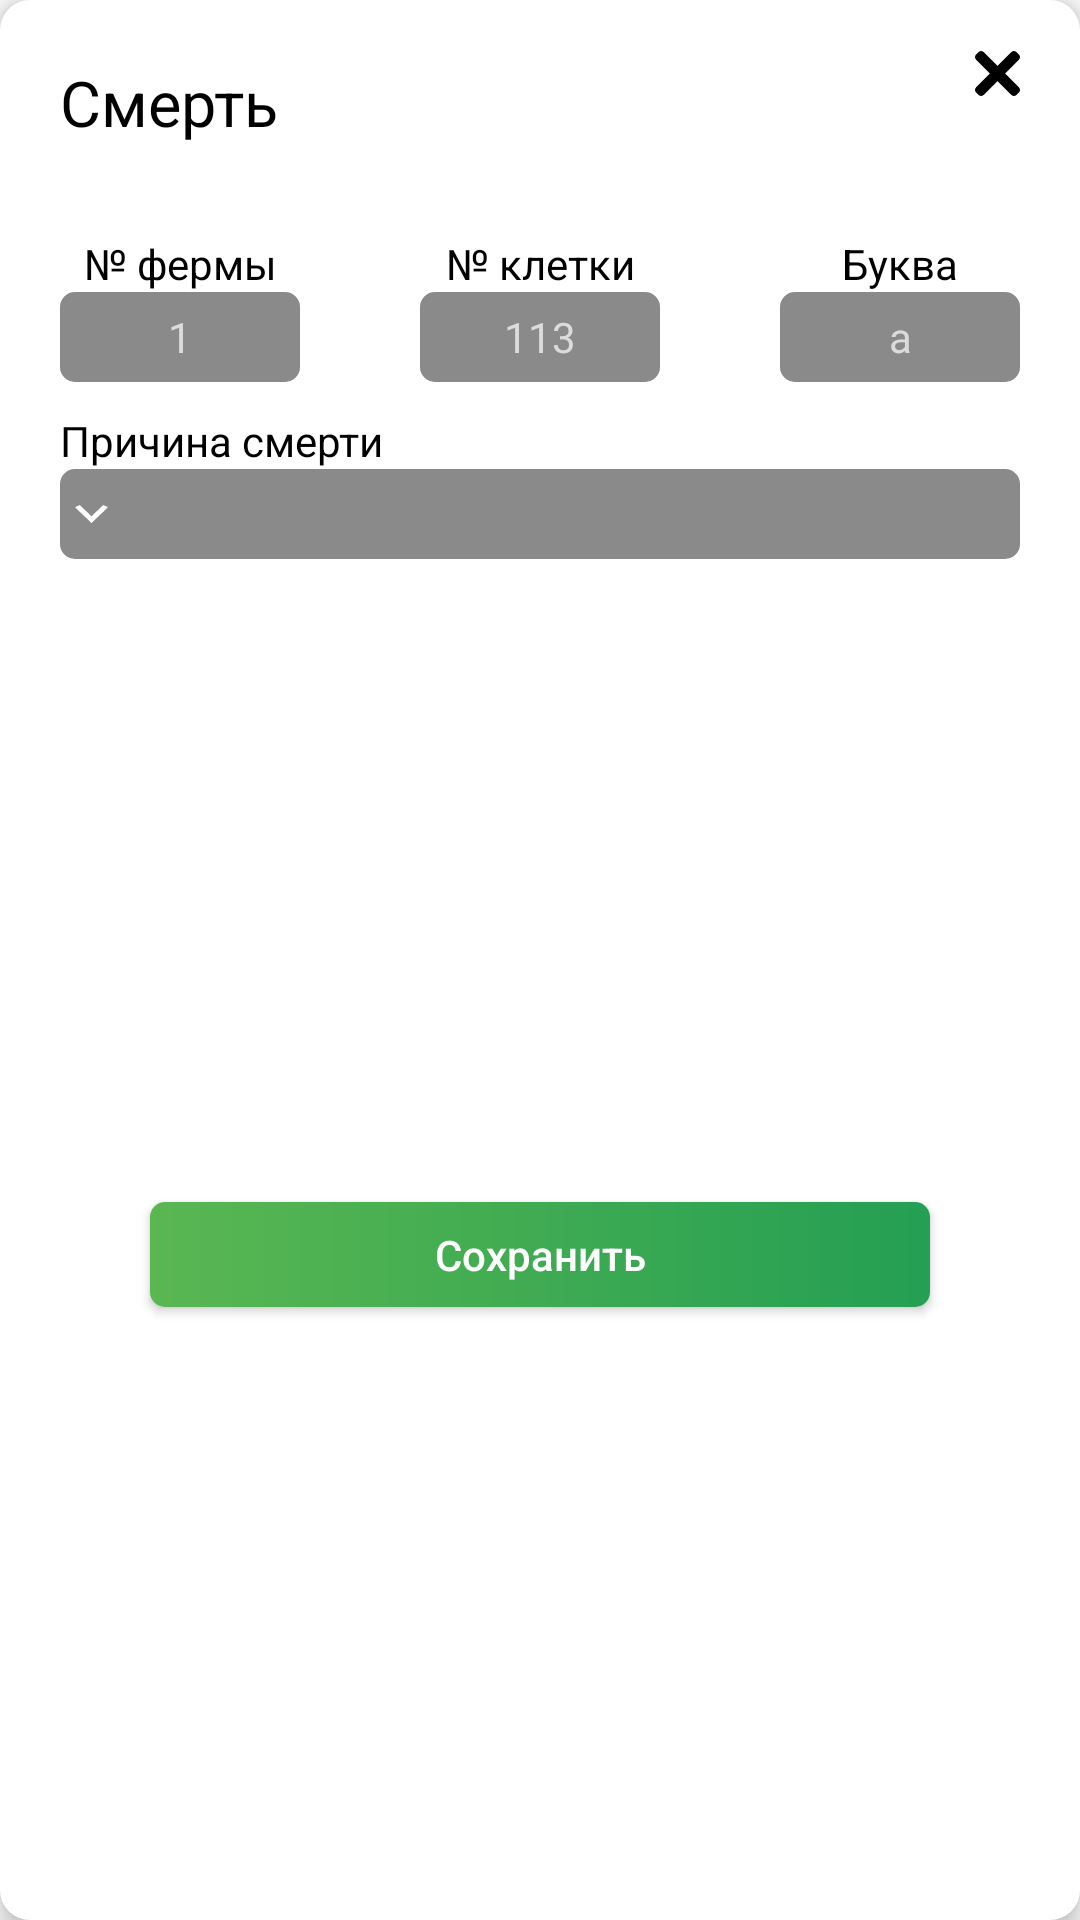

Point at icon controls on the screen. Image size 1080w x 1920h, points as (x,y).
close menu: (997,73)
